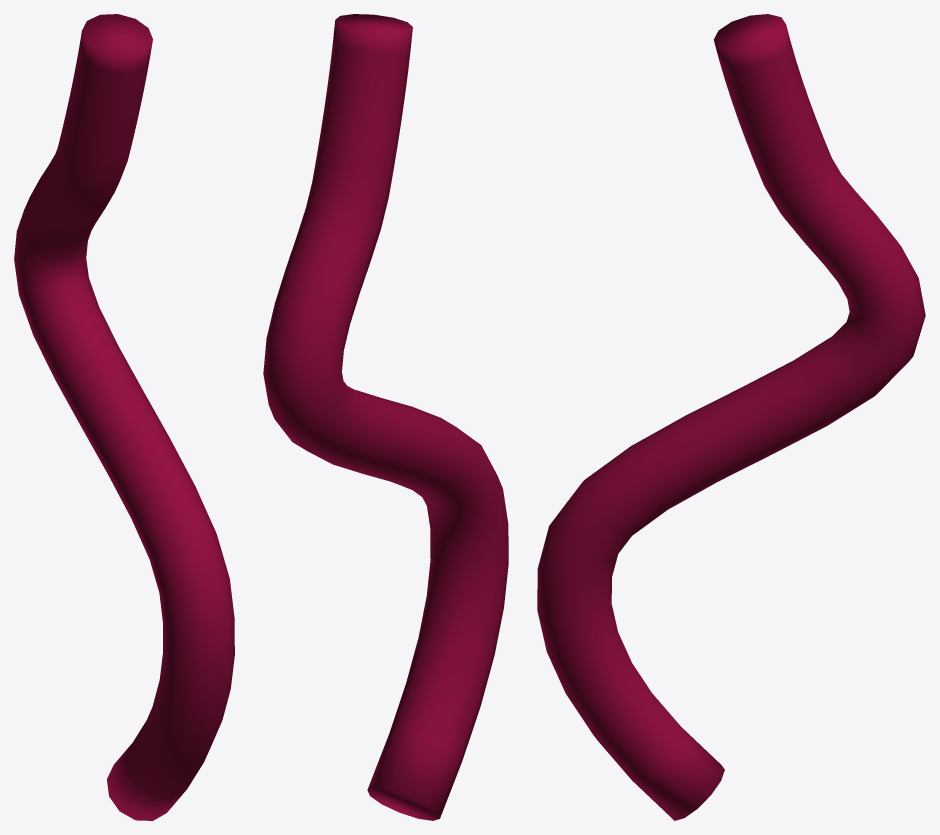
File: droga_005.obj
The picture shows the model from 3 angles, left to right: view 1: azimuth 30°, elevation 25°; view 2: azimuth 150°, elevation 25°; view 3: azimuth 270°, elevation 25°; orthographic projection. The views are drawn at different scales.
Parts seen in each view (by area): view 1: DROGA_004; view 2: DROGA_004; view 3: DROGA_004.
Part boxes in pixels (x1,y1,x2,y2): DROGA_004: [14, 14, 234, 820]; DROGA_004: [263, 14, 508, 820]; DROGA_004: [537, 14, 925, 820].
Bounding box in the file's own units: 0.2648 × 2.97 × 1.32.
